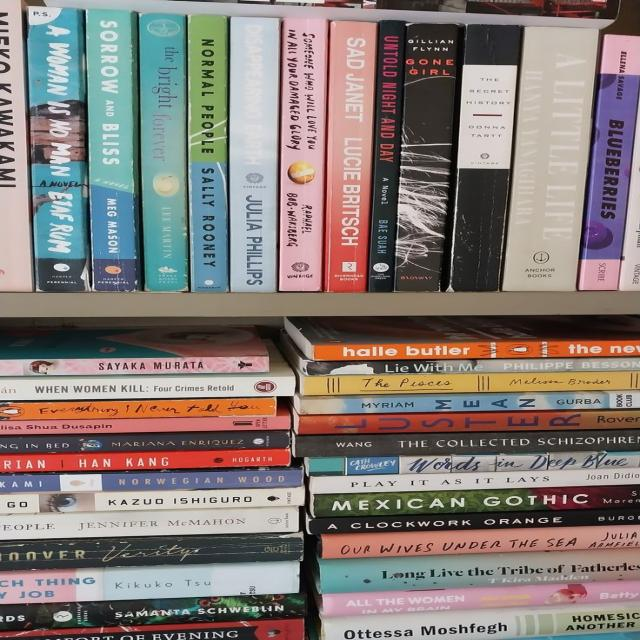book: (503, 27, 598, 291), (441, 24, 522, 291), (393, 24, 463, 291), (27, 9, 86, 291), (579, 34, 639, 291), (86, 11, 139, 291), (323, 22, 377, 292), (0, 351, 294, 400), (315, 550, 639, 593), (230, 18, 280, 292), (278, 19, 328, 291), (140, 15, 188, 291), (0, 561, 299, 604), (321, 603, 639, 640), (187, 16, 229, 291), (322, 581, 639, 617), (0, 593, 305, 630), (0, 533, 303, 570), (321, 525, 639, 559), (367, 21, 406, 292), (311, 486, 639, 518), (0, 507, 298, 540), (295, 429, 639, 457), (0, 0, 33, 291), (297, 369, 639, 396), (290, 350, 639, 376), (294, 410, 639, 435), (310, 509, 639, 535), (310, 469, 639, 495), (0, 487, 303, 515), (294, 391, 639, 414), (307, 451, 639, 474), (0, 468, 303, 493), (0, 448, 290, 473), (0, 410, 290, 435), (0, 618, 304, 640), (0, 430, 290, 453), (0, 398, 276, 420), (315, 342, 640, 357), (0, 362, 272, 373)
